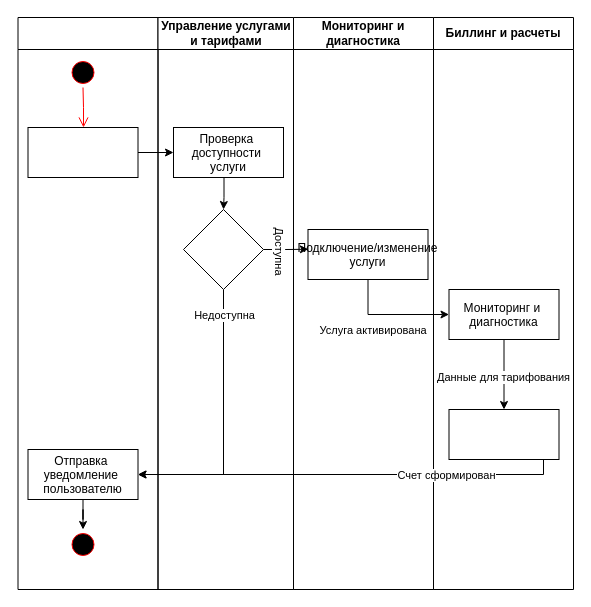
This 591x607 diagram has some shape labels left out. Here are the shapes that lost their labels. From the top down, the box of each, then its label:
(27, 126, 138, 178): Запрос на услугу
(182, 208, 264, 290): Доступна?
(17, 16, 158, 590): Клиент
(448, 408, 559, 460): Выставление счетов
